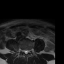CCS_stenosis: (25, 49, 26, 56)
LFS_normal: (28, 48, 30, 54)
LLS_normal: (26, 49, 28, 55)
RFS_normal: (21, 48, 23, 54)
RLS_normal: (23, 48, 25, 54)
